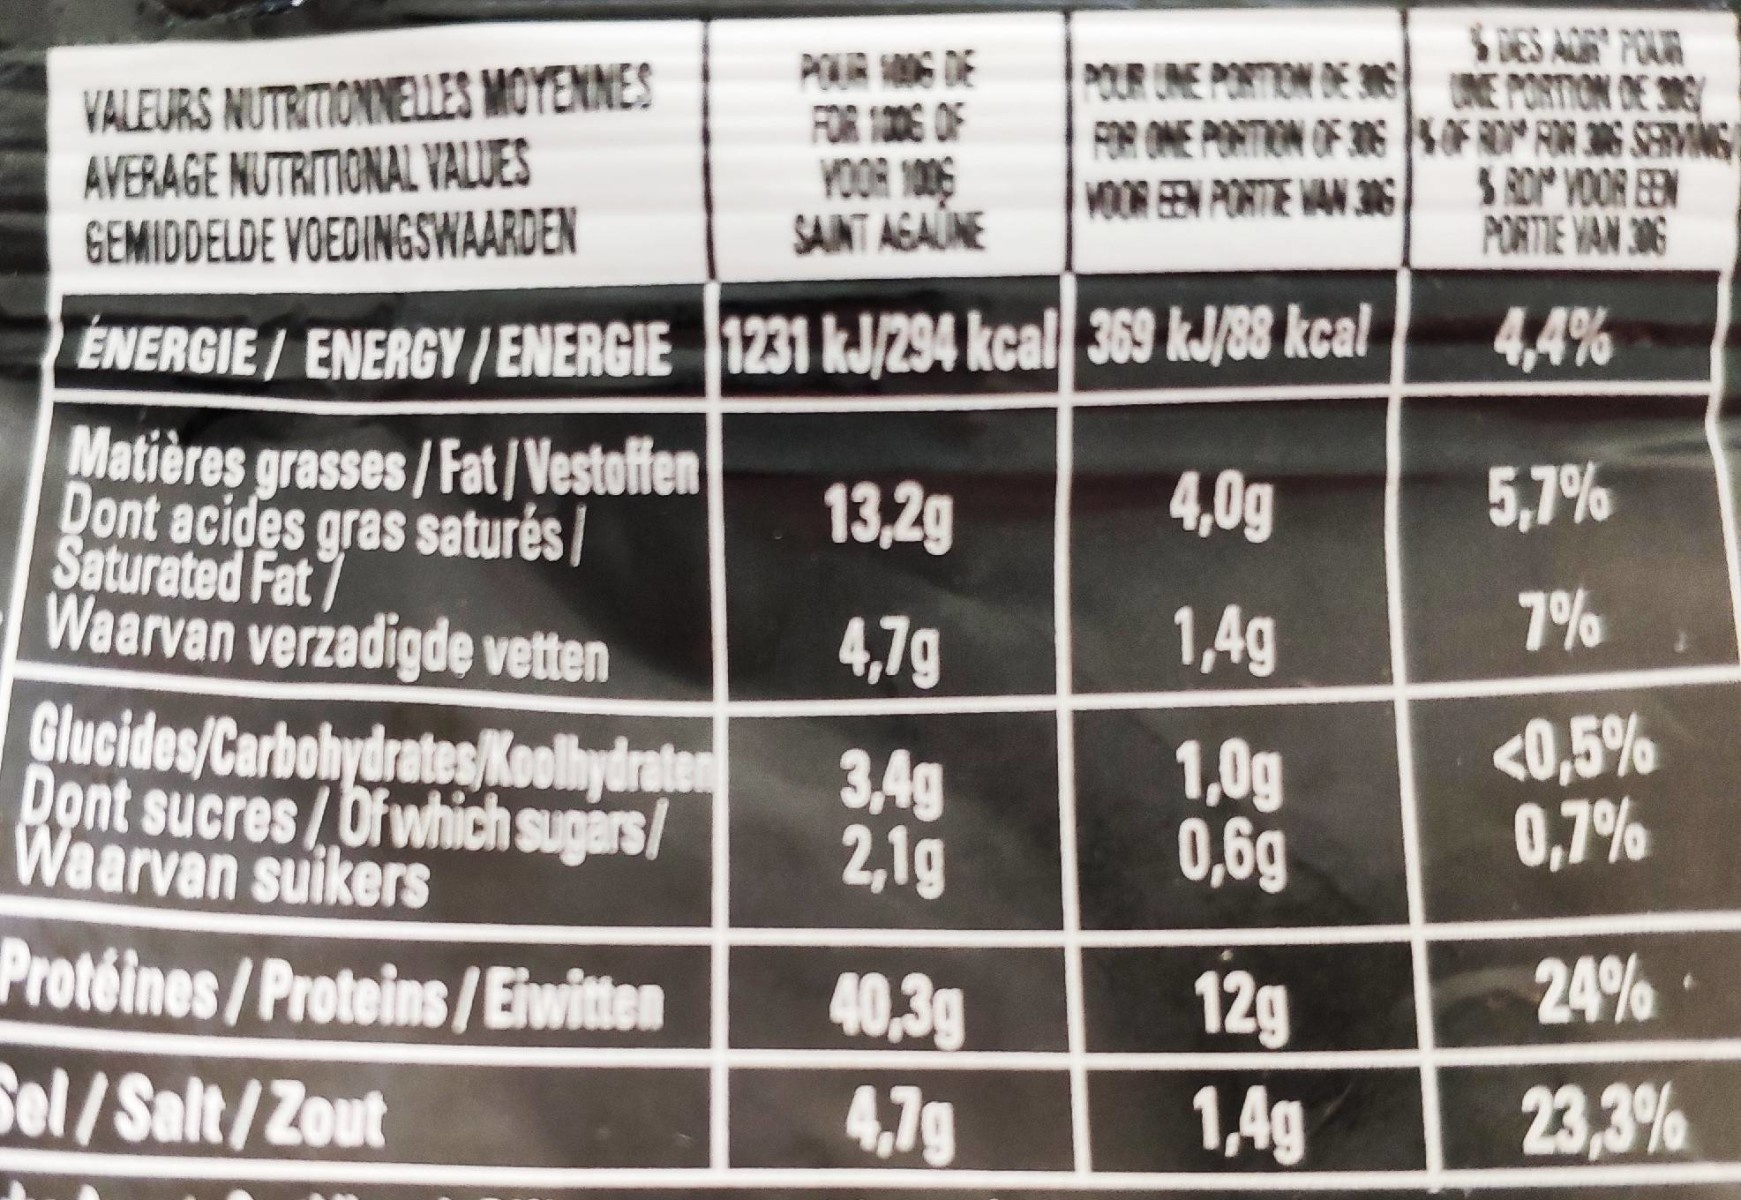column: (25, 48, 685, 1168), (724, 48, 1054, 1170), (1422, 19, 1725, 1163), (1083, 50, 1392, 1170)
table: (11, 12, 1741, 1184)
